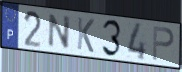2: (23, 10, 44, 48)
3: (99, 19, 124, 58)
4: (126, 21, 149, 62)
K: (76, 16, 95, 55)
N: (47, 13, 72, 50)
P: (151, 24, 176, 62)
